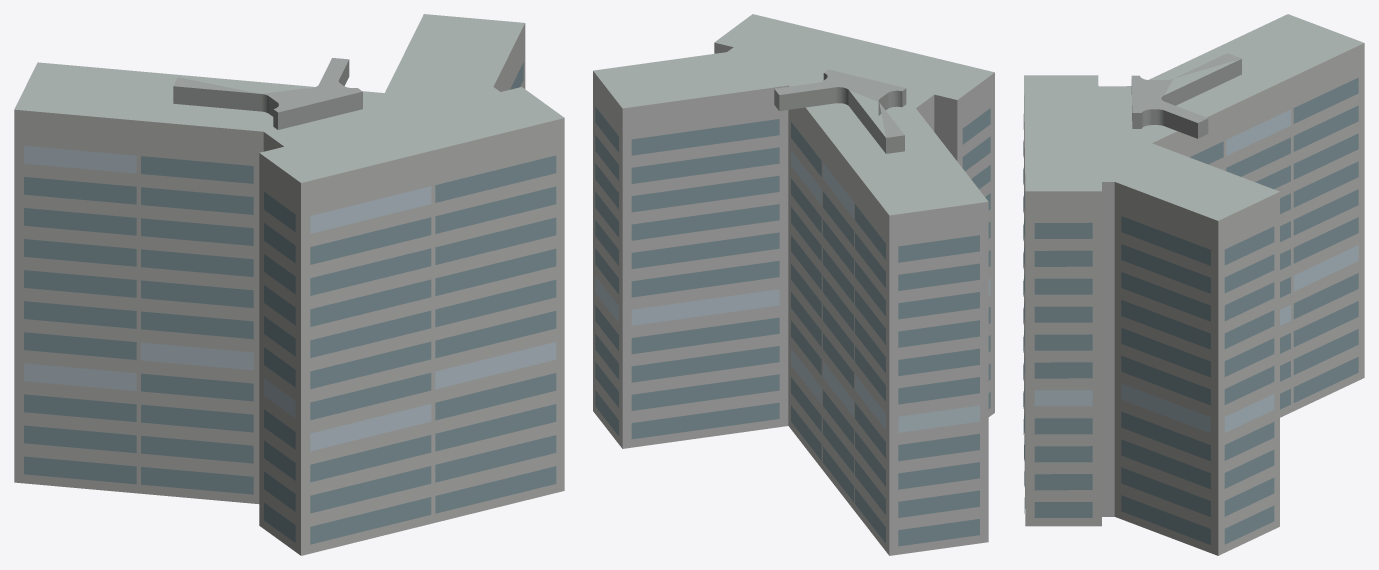
The model's file is fallback-raemian-oksu-riverzen-113.glb.
3 views of the same model, side by side, from view 1: azimuth 30°, elevation 25°; view 2: azimuth 150°, elevation 25°; view 3: azimuth 270°, elevation 25° (orthographic). The views are drawn at different scales.
Visible parts, largest first — view 1: fallback-raemian-oksu-riverzen-113; view 2: fallback-raemian-oksu-riverzen-113; view 3: fallback-raemian-oksu-riverzen-113.
Part boxes in pixels (box(x1,y1,x2,y2)): fallback-raemian-oksu-riverzen-113: box(14, 14, 564, 555); fallback-raemian-oksu-riverzen-113: box(593, 14, 994, 555); fallback-raemian-oksu-riverzen-113: box(1023, 14, 1364, 555).
Size of the model in its own units: 44.29 by 35 by 30.84.
